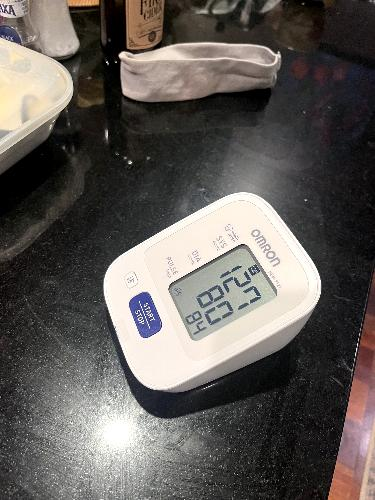bpm: (156, 234, 287, 354)
